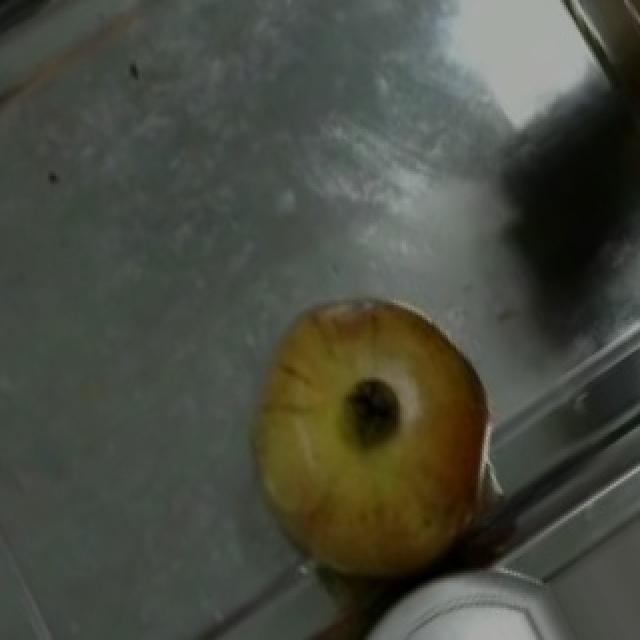fruit: (234, 268, 520, 526)
